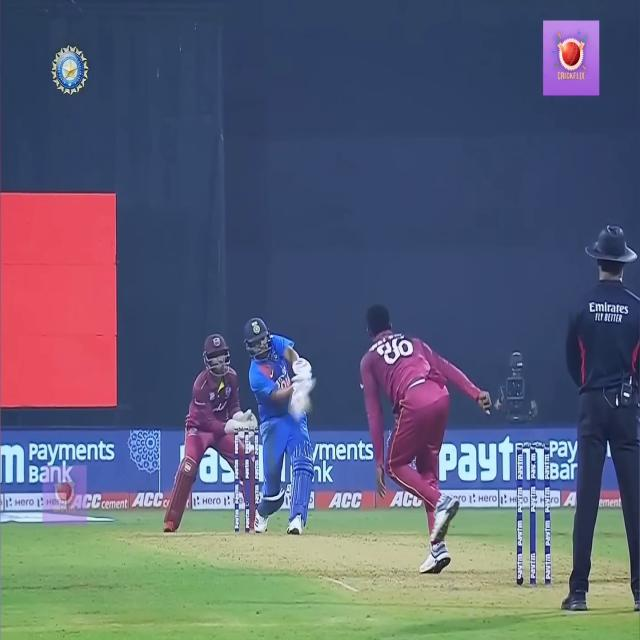partially_visible: (432, 435, 548, 488)
